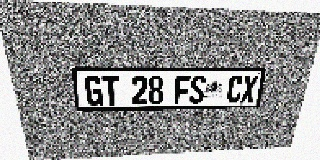2: (132, 76, 148, 105)
8: (148, 76, 164, 104)
C: (226, 75, 244, 103)
F: (174, 76, 190, 104)
G: (84, 76, 103, 106)
S: (189, 75, 206, 104)
T: (102, 76, 120, 105)
X: (240, 75, 258, 102)
